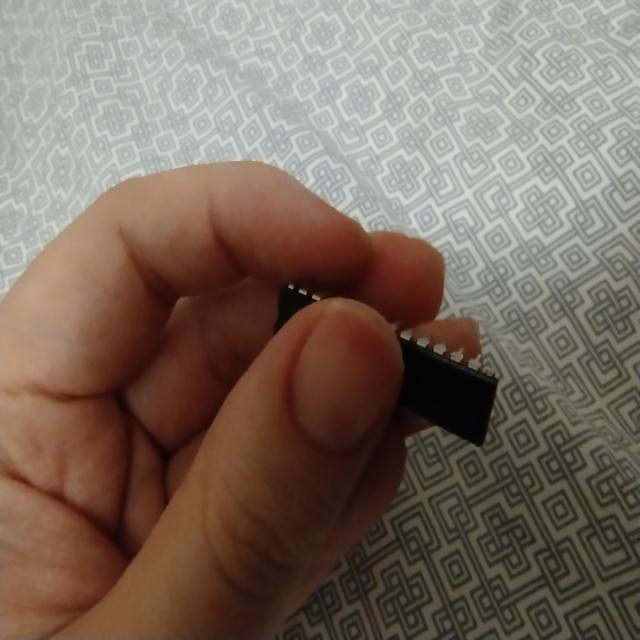atmega: (272, 280, 500, 450)
